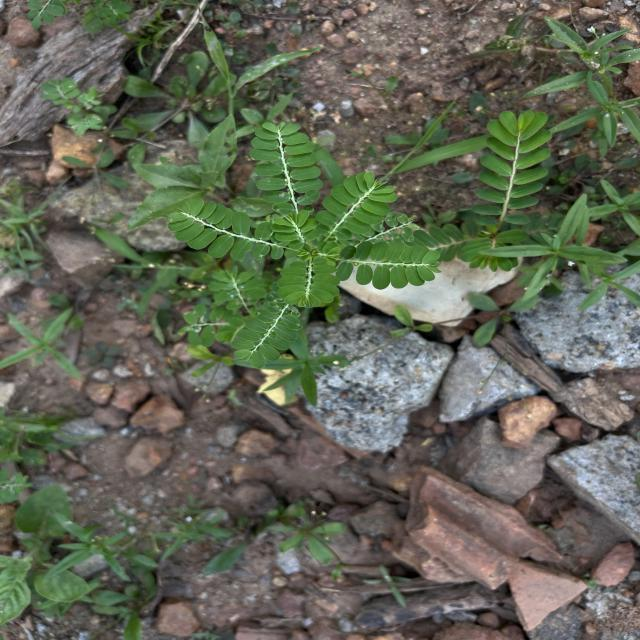Phyllanthus niruri: (470, 108, 551, 224), (165, 196, 288, 262), (246, 119, 324, 215), (316, 169, 398, 244), (333, 240, 443, 290), (230, 299, 304, 370), (276, 254, 340, 310)
